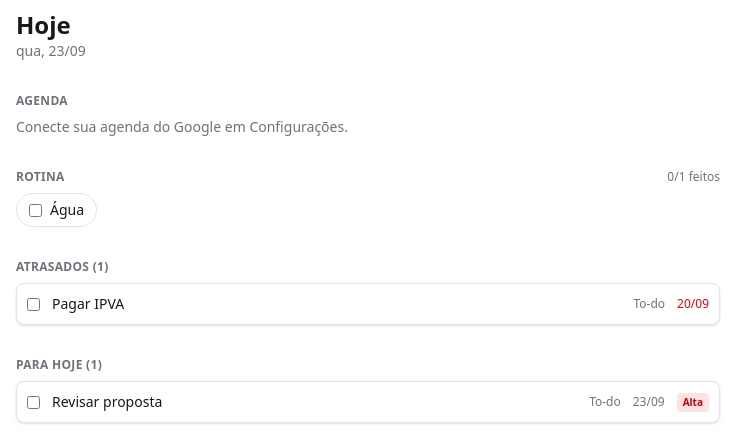
it: TodayView › marca o hábito do dia
Click the checkbox labelled "Água": (36, 210) [29,204,42,216]
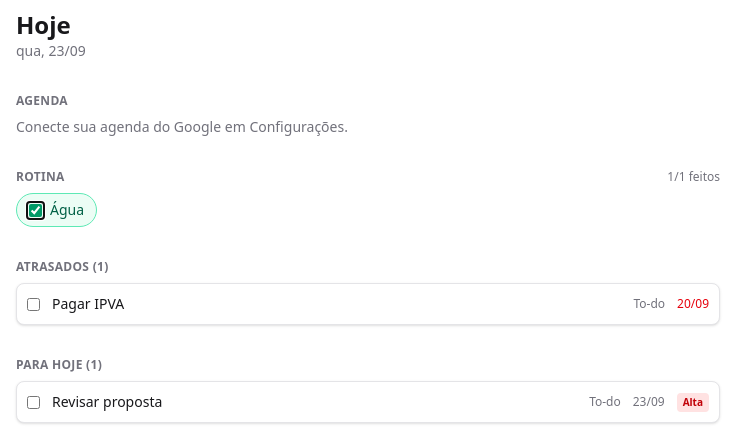
Check: the text "1/1 feitos" is shown, box [667,169,720,185]
